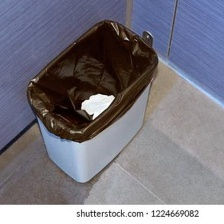tissue: (78, 91, 118, 121)
